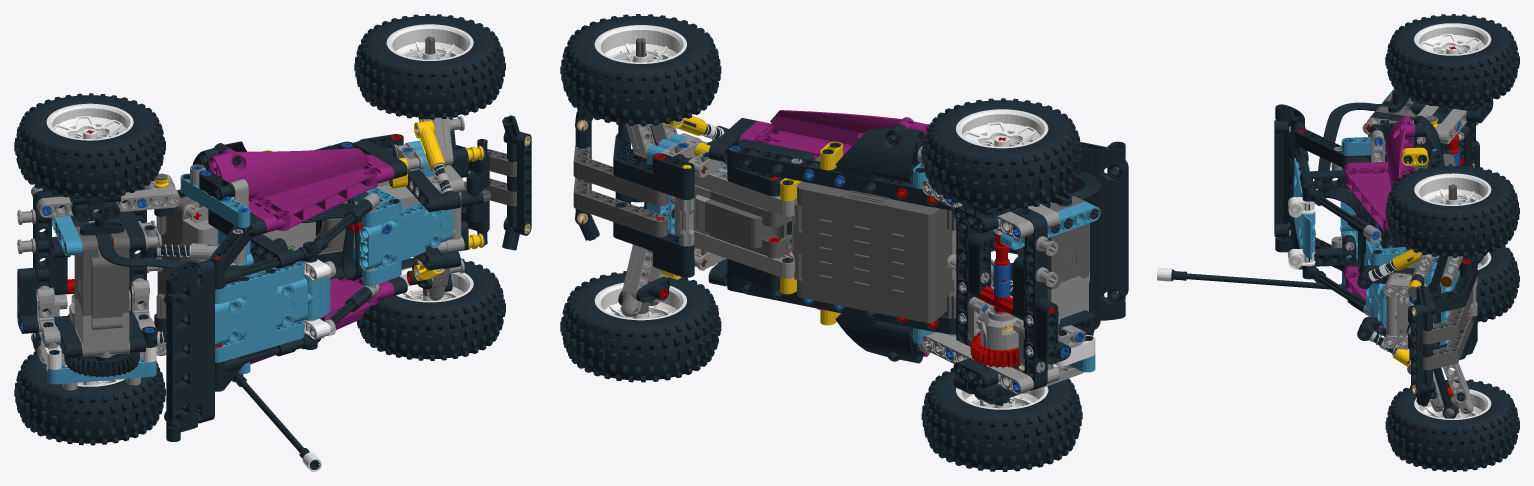
Rendered from lego_42124.glb.
The picture shows the model from 3 angles, left to right: view 1: azimuth 30°, elevation 25°; view 2: azimuth 150°, elevation 25°; view 3: azimuth 270°, elevation 25°; orthographic projection. The views are drawn at different scales.
Visible parts, largest first — view 1: e971, e973, e977, e975, e501, e927, e959, e937, e399, e290, e382, e972 (+41 smaller); view 2: e382, e973, e971, e977, e975, e927, e0, e448, e374, e956, e501, e959 (+35 smaller); view 3: e973, e971, e977, e927, e975, e937, e972, e970, e959, e433, e335, e366 (+24 smaller).
Boxes of the visible parts, bbox=[...] form: e971: bbox=[354, 14, 505, 119]; e973: bbox=[14, 93, 165, 198]; e977: bbox=[356, 256, 505, 360]; e975: bbox=[14, 351, 165, 445]; e501: bbox=[74, 223, 130, 357]; e927: bbox=[164, 262, 201, 441]; e959: bbox=[208, 148, 369, 199]; e937: bbox=[248, 154, 394, 232]; e399: bbox=[215, 277, 307, 345]; e290: bbox=[359, 203, 453, 270]; e382: bbox=[157, 196, 315, 311]; e972: bbox=[46, 103, 133, 140]; e382: bbox=[794, 155, 956, 323]; e973: bbox=[921, 98, 1082, 210]; e971: bbox=[560, 14, 721, 126]; e977: bbox=[560, 271, 721, 382]; e975: bbox=[921, 368, 1082, 471]; e927: bbox=[1068, 141, 1128, 320]; e0: bbox=[671, 168, 791, 258]; e448: bbox=[956, 207, 1047, 390]; e374: bbox=[727, 145, 954, 210]; e956: bbox=[835, 123, 923, 183]; e501: bbox=[1018, 196, 1089, 318]; e959: bbox=[770, 110, 929, 145]; e973: bbox=[1385, 14, 1519, 107]; e971: bbox=[1385, 164, 1519, 257]; e977: bbox=[1385, 379, 1519, 471]; e927: bbox=[1274, 104, 1304, 252]; e975: bbox=[1476, 244, 1519, 322]; e937: bbox=[1343, 161, 1415, 233]; e972: bbox=[1414, 23, 1491, 55]; e970: bbox=[1414, 173, 1491, 205]; e959: bbox=[1385, 116, 1415, 187]; e433: bbox=[1294, 128, 1387, 167]; e335: bbox=[1423, 311, 1472, 370]; e366: bbox=[1411, 304, 1422, 395].
Bounding box in the file's own units: 0.2792 × 0.1639 × 0.2031.
